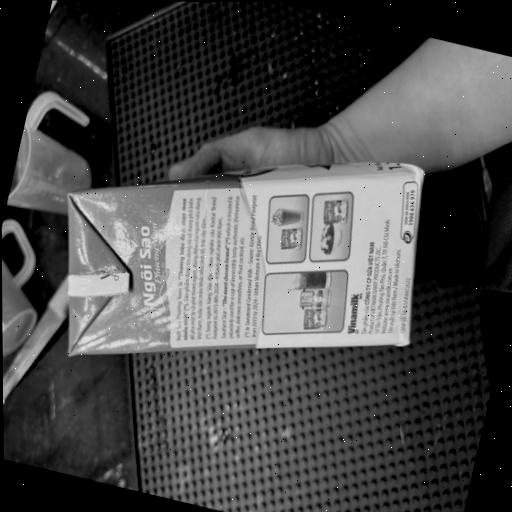sua_dac: (68, 161, 423, 355)
